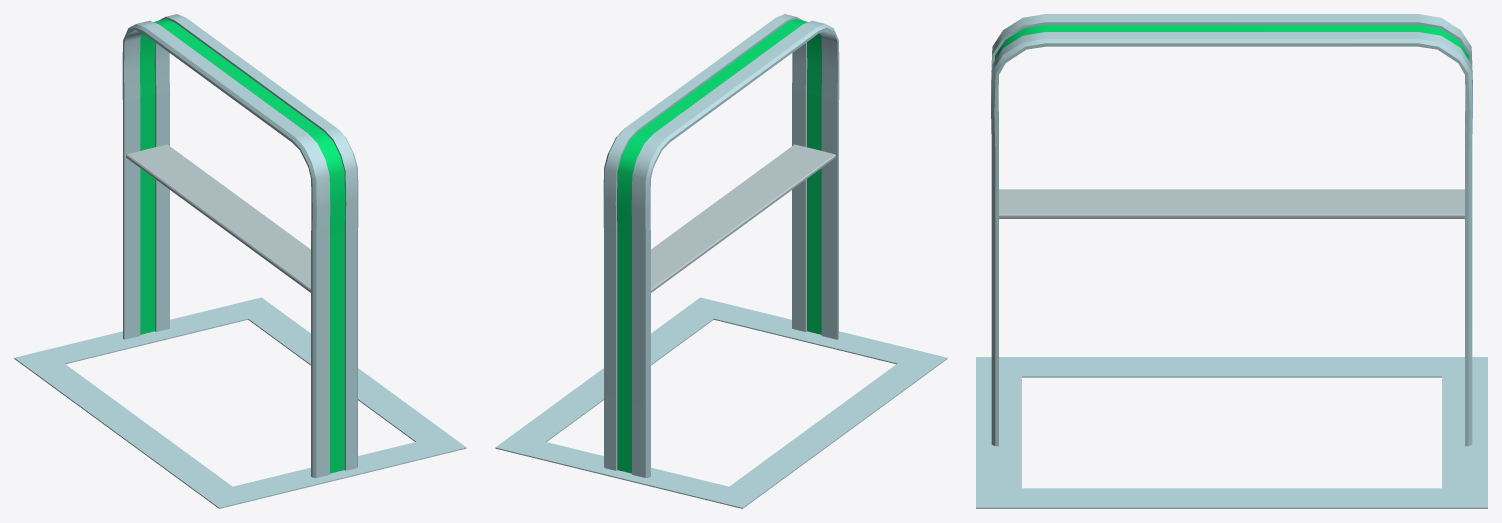
File: Bike_Rail.fbx
The picture shows the model from 3 angles, left to right: view 1: azimuth 30°, elevation 25°; view 2: azimuth 150°, elevation 25°; view 3: azimuth 270°, elevation 25°; orthographic projection. The views are drawn at different scales.
Visible parts, largest first — view 1: Bike_Rail_Thingy; view 2: Bike_Rail_Thingy; view 3: Bike_Rail_Thingy.
Boxes of the visible parts, x1=… form: Bike_Rail_Thingy: x1=14, y1=14, x2=466, y2=508; Bike_Rail_Thingy: x1=495, y1=14, x2=947, y2=508; Bike_Rail_Thingy: x1=976, y1=14, x2=1487, y2=508.
Bounding box in the file's own units: 1.13 × 1.42 × 1.62.
